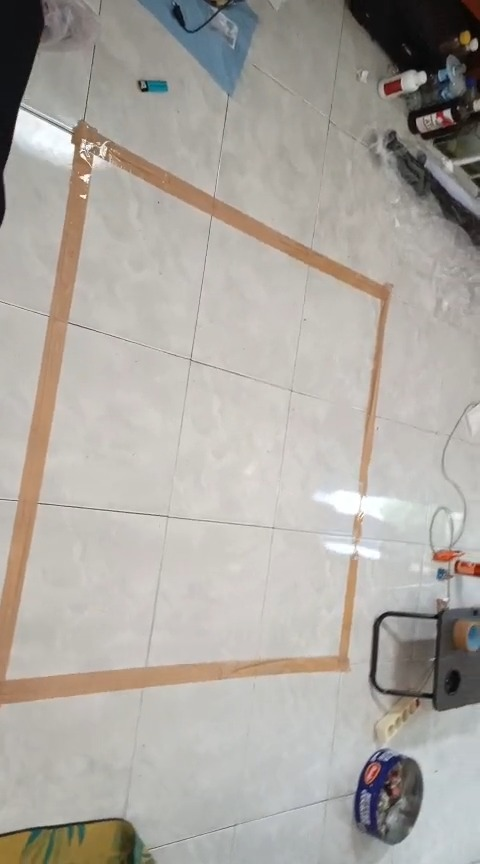floor marking: (0, 121, 389, 704), (0, 121, 390, 686)
